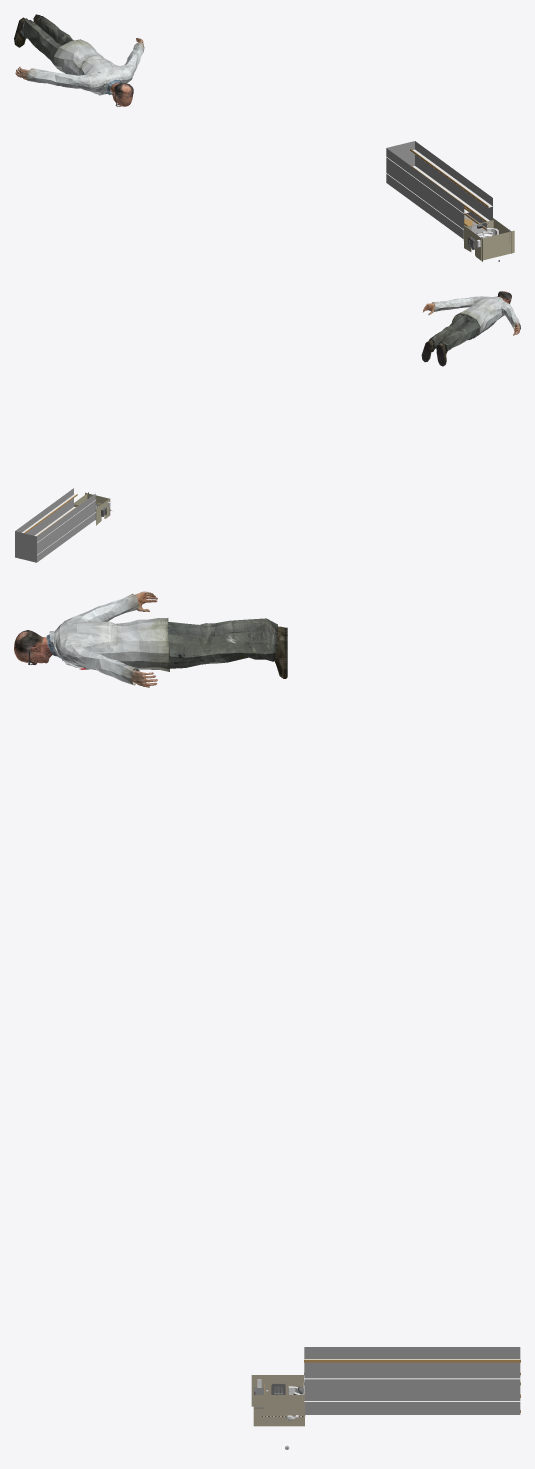
File: map_interactive.glb
The picture shows the model from 3 angles, top to bottom: view 1: azimuth 30°, elevation 25°; view 2: azimuth 150°, elevation 25°; view 3: azimuth 270°, elevation 25°; orthographic projection. The views are drawn at different scales.
Visible parts, largest first — view 1: Object_7, Plane.006, back_wall, Object_9, Plane.002; view 2: Object_7, Plane.006; view 3: Plane.006, Object_7, Plane.001, Object_9.
Boxes of the visible parts, <box> form: Object_7: <box>14,14,144,95</box>; Plane.006: <box>386,141,492,238</box>; back_wall: <box>481,230,514,260</box>; Object_9: <box>110,83,133,106</box>; Plane.002: <box>464,225,482,261</box>; Object_7: <box>421,296,520,366</box>; Plane.006: <box>15,488,95,562</box>; Plane.006: <box>304,1347,520,1414</box>; Object_7: <box>46,591,287,687</box>; Plane.001: <box>253,1395,304,1426</box>; Object_9: <box>14,630,52,664</box>.
Size of the model in its own units: 235 by 147 by 133.
35 materials, 9 textured.
